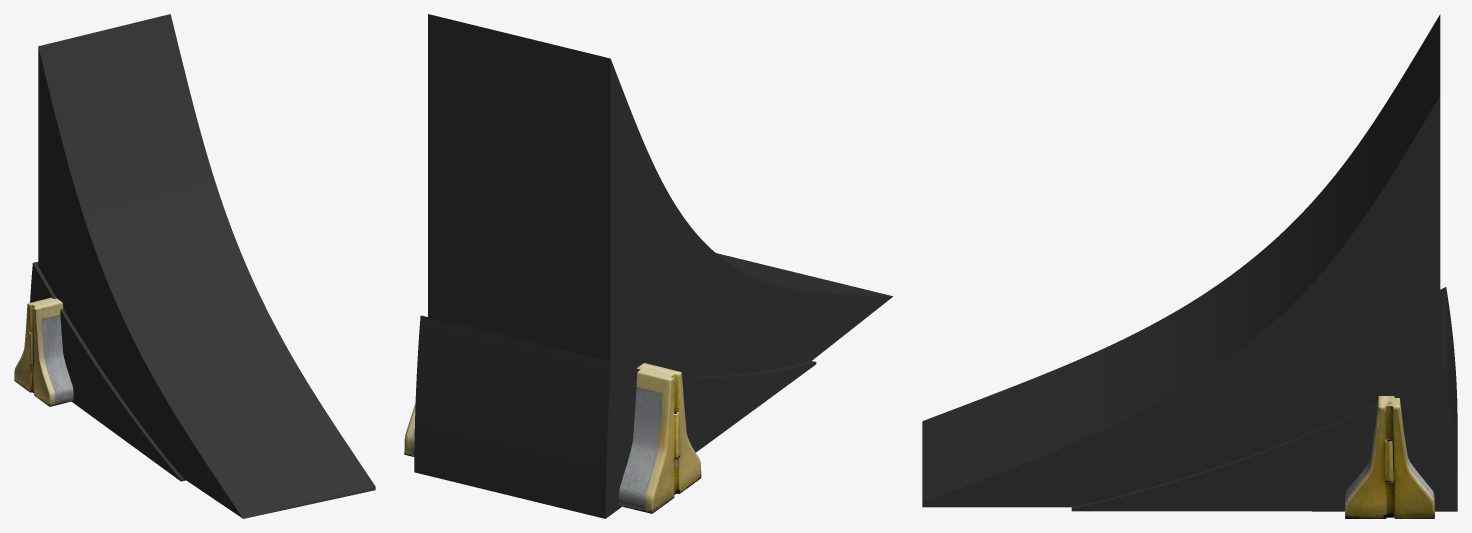
The model's file is barrier.glb.
3 renders of one model, left to right at view 1: azimuth 30°, elevation 25°; view 2: azimuth 150°, elevation 25°; view 3: azimuth 270°, elevation 25°, orthographic. The views are drawn at different scales.
Visible parts, largest first — view 1: Cube.001, Cube, concrete barriers; view 2: Cube.001, Cube, concrete barriers; view 3: Cube.001, Cube, concrete barriers.
Part boxes in pixels (box(x1,y1,x2,y2)): Cube.001: box(38, 14, 375, 518); Cube: box(30, 261, 185, 481); concrete barriers: box(14, 297, 73, 406); Cube.001: box(428, 14, 892, 375); Cube: box(414, 315, 816, 518); concrete barriers: box(404, 363, 701, 513); Cube.001: box(922, 14, 1440, 507); Cube: box(1071, 287, 1457, 511); concrete barriers: box(1345, 396, 1434, 518).
Size of the model in its own units: 9.26 by 15.92 by 18.64.
2 materials, 1 textured.
